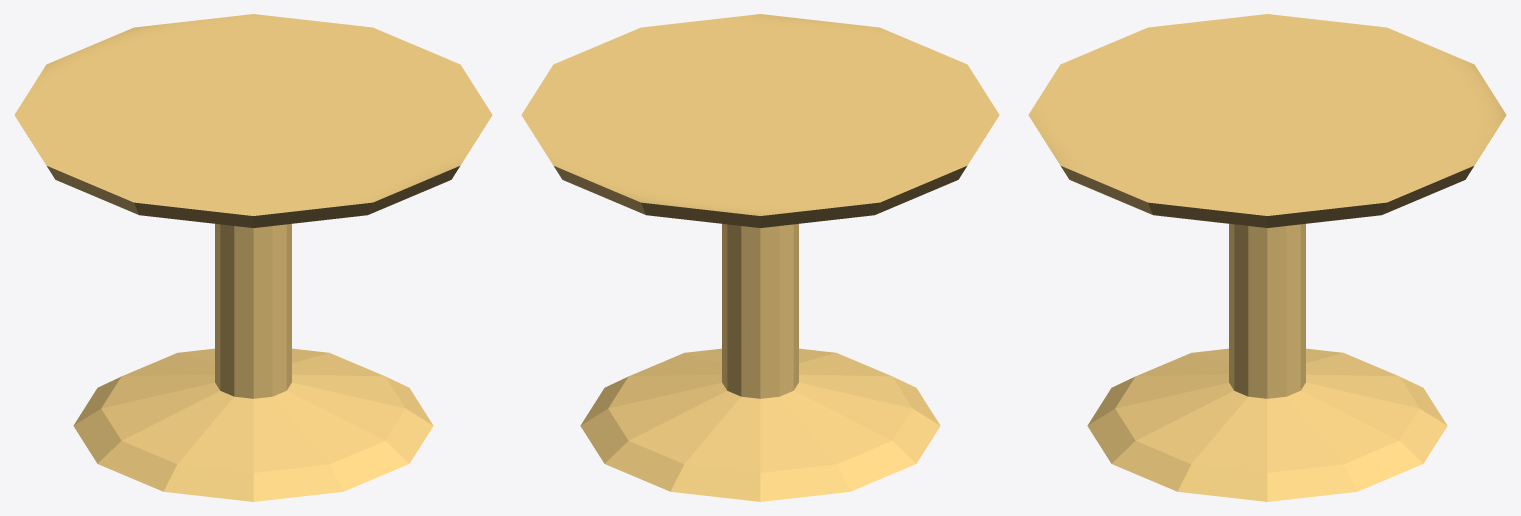
Rendered from Mesa.obj.
3 views of the same model, side by side, from view 1: azimuth 30°, elevation 25°; view 2: azimuth 150°, elevation 25°; view 3: azimuth 270°, elevation 25° (orthographic).
Visible parts, largest first — view 1: Cylinder.004; view 2: Cylinder.004; view 3: Cylinder.004.
Boxes of the visible parts, left/top/right/bottom form: Cylinder.004: left=14, top=14, right=492, bottom=501; Cylinder.004: left=521, top=14, right=999, bottom=501; Cylinder.004: left=1028, top=14, right=1506, bottom=501.
Size of the model in its own units: 0.8099 by 0.5807 by 0.8099.
Materials: 1 (1 with a texture image).
